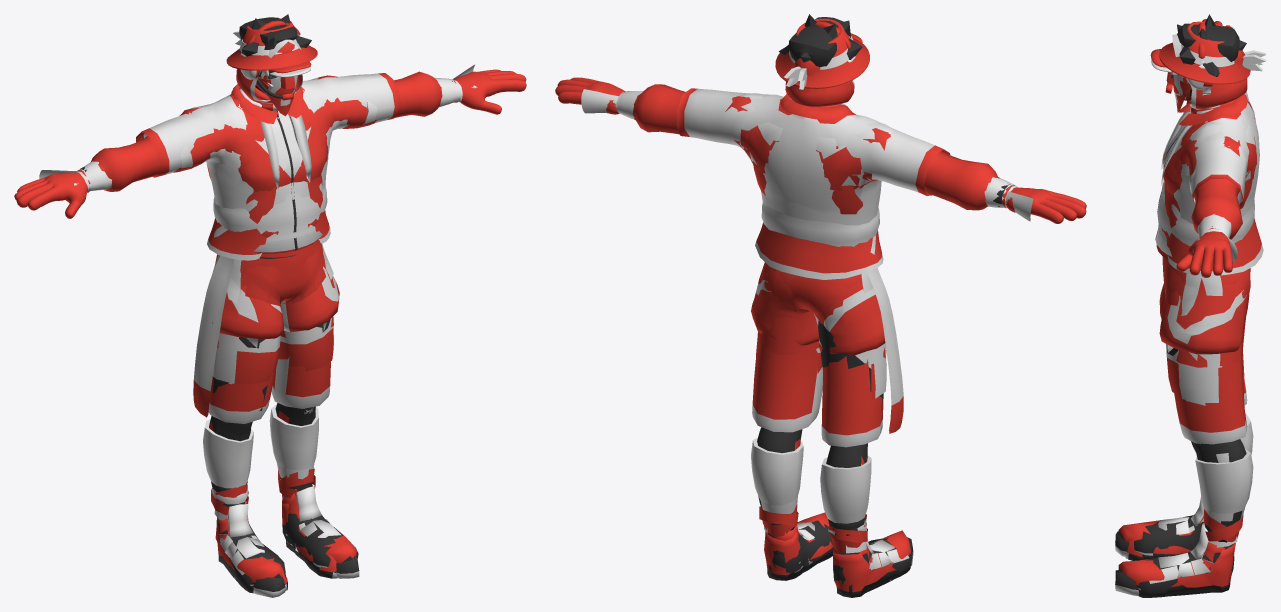
Rendered from HumanCharacterDummy_F.fbx.
The picture shows the model from 3 angles, left to right: view 1: azimuth 30°, elevation 25°; view 2: azimuth 150°, elevation 25°; view 3: azimuth 270°, elevation 25°; orthographic projection. The views are drawn at different scales.
Parts seen in each view (by area): view 1: PT02, T06, PTSMLE01, S06, SO05, S07, T07, GLP04, S03, PSH01, PS02SMLE, PS01 (+12 smaller); view 2: T06, S06, PT02, T07, SO05, S07, PTSMLE01, PSH01, SH04, PS02, H07, GLP04 (+10 smaller); view 3: S07, T06, S06, PT02, SO05, PTSMLE01, PSH01, H07, PSH02, SH04, T07, S03 (+23 smaller).
Boxes of the visible parts, box(x1,y1,x2,y2) form: PT02: box(80, 71, 452, 237); T06: box(136, 73, 401, 257); PTSMLE01: box(207, 88, 330, 260); S06: box(208, 266, 330, 423); SO05: box(203, 404, 318, 488); S07: box(212, 254, 339, 348); T07: box(213, 90, 327, 253); GLP04: box(37, 71, 502, 209); S03: box(213, 326, 333, 383); PSH01: box(211, 468, 358, 585); PS02SMLE: box(193, 255, 233, 417); PS01: box(214, 242, 333, 348); T06: box(676, 88, 950, 225); S06: box(752, 275, 883, 447); PT02: box(628, 84, 1010, 210); T07: box(761, 104, 879, 246); SO05: box(751, 437, 871, 523); S07: box(751, 262, 885, 355); PTSMLE01: box(744, 97, 883, 279); PSH01: box(759, 504, 912, 580); SH04: box(764, 522, 910, 597); PS02: box(757, 312, 885, 410); H07: box(775, 18, 869, 88); GLP04: box(578, 79, 1060, 216); S07: box(1159, 281, 1249, 356); T06: box(1156, 91, 1258, 259); S06: box(1165, 287, 1248, 444); PT02: box(1161, 101, 1256, 239); SO05: box(1195, 413, 1253, 513); PTSMLE01: box(1160, 109, 1263, 275); PSH01: box(1134, 509, 1243, 590); H07: box(1159, 21, 1250, 84); PSH02: box(1118, 515, 1234, 595); SH04: box(1127, 517, 1235, 596); T07: box(1155, 106, 1259, 256); S03: box(1167, 358, 1222, 402).
Size of the model in its own units: 1.84 by 1.87 by 0.4684.
